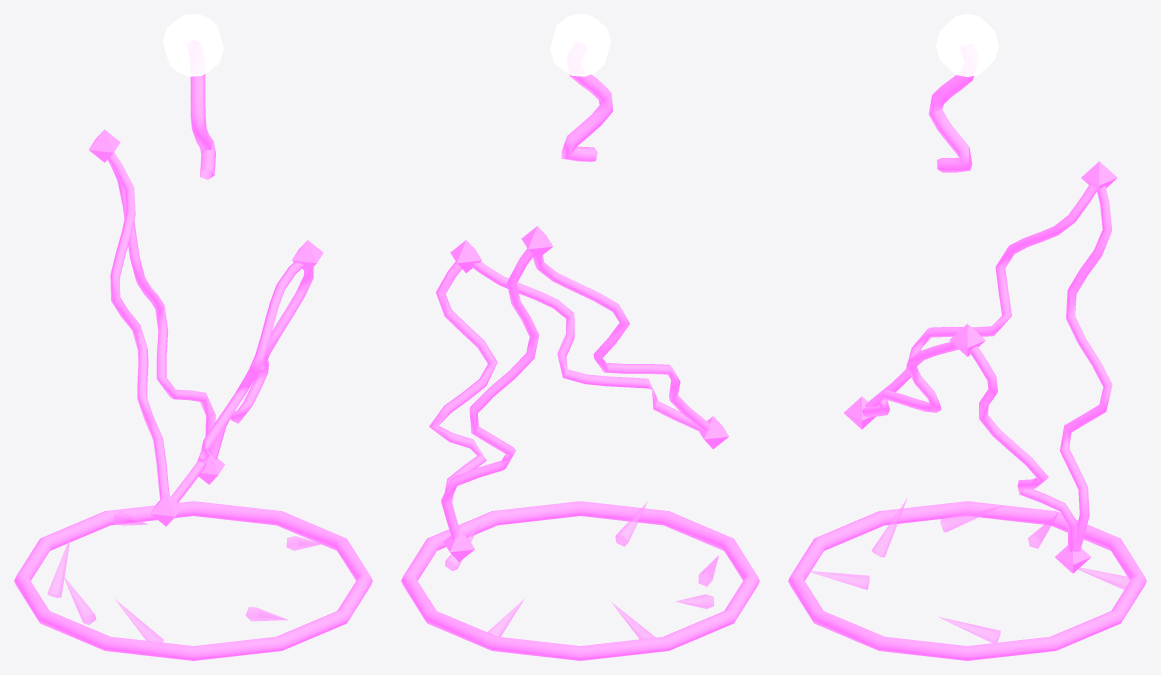
File: vfx_status_shock.glb
3 views of the same model, side by side, from view 1: azimuth 30°, elevation 25°; view 2: azimuth 150°, elevation 25°; view 3: azimuth 270°, elevation 25° (orthographic).
Visible parts, largest first — view 1: shock_ring, shock_arc1, shock_strike_flash, shock_arc0, shock_arc2, shock_ground, shock_arc3, shock_strike, shock_node1, shock_node2, shock_node0; view 2: shock_ring, shock_arc2, shock_arc1, shock_arc0, shock_arc3, shock_strike_flash, shock_ground, shock_strike, shock_node2, shock_node0, shock_node3; view 3: shock_ring, shock_arc2, shock_arc1, shock_strike_flash, shock_ground, shock_arc3, shock_strike, shock_arc0, shock_node0, shock_node2, shock_node3.
Part boxes in pixels (box(x1,y1,x2,y2)): shock_ring: box(14, 501, 372, 660); shock_arc1: box(107, 152, 169, 499); shock_strike_flash: box(163, 14, 223, 76); shock_arc0: box(171, 262, 303, 502); shock_arc2: box(109, 163, 215, 436); shock_ground: box(47, 511, 321, 642); shock_arc3: box(210, 267, 313, 459); shock_strike: box(190, 74, 215, 179); shock_node1: box(150, 493, 181, 526); shock_node2: box(89, 129, 120, 162); shock_node0: box(292, 240, 323, 272); shock_ring: box(401, 501, 759, 660); shock_arc2: box(441, 248, 539, 539); shock_arc1: box(533, 255, 710, 431); shock_arc0: box(471, 261, 702, 431); shock_arc3: box(429, 261, 497, 537); shock_strike_flash: box(550, 14, 610, 76); shock_ground: box(445, 502, 718, 639); shock_strike: box(561, 74, 612, 161); shock_node2: box(521, 226, 552, 259); shock_node0: box(450, 240, 481, 272); shock_node3: box(443, 529, 474, 561); shock_ring: box(788, 501, 1146, 660); shock_arc2: box(1060, 186, 1112, 551); shock_arc1: box(865, 184, 1096, 407); shock_strike_flash: box(936, 14, 998, 76); shock_ground: box(806, 498, 1132, 643); shock_arc3: box(969, 346, 1077, 552); shock_strike: box(928, 75, 973, 172); shock_arc0: box(862, 342, 958, 417); shock_node0: box(949, 324, 985, 356); shock_node2: box(1081, 161, 1117, 192); shock_node3: box(1055, 545, 1090, 573).
Bounding box in the file's own units: 1.36 × 2.43 × 1.36.
